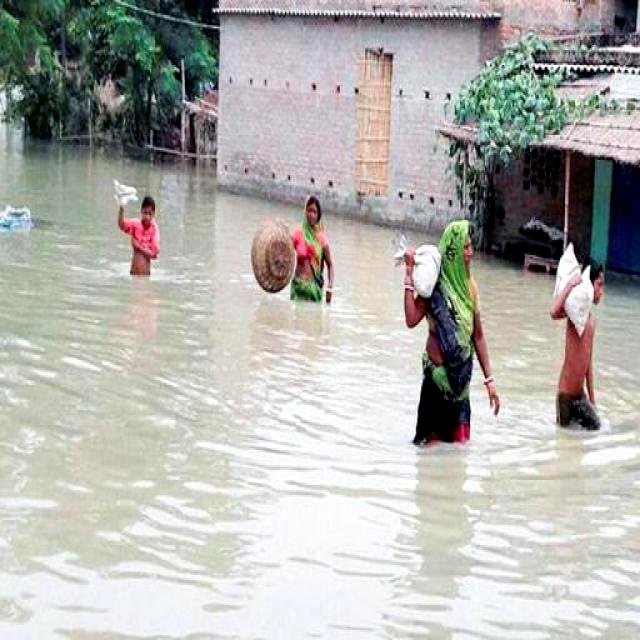civilian: (377, 203, 516, 465), (539, 231, 621, 443), (240, 184, 352, 318), (109, 170, 173, 295)
